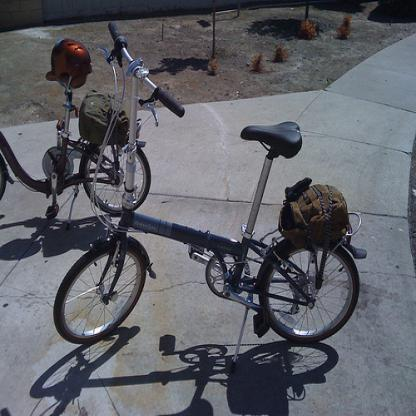bicycle: (53, 22, 368, 347), (0, 37, 154, 220)
